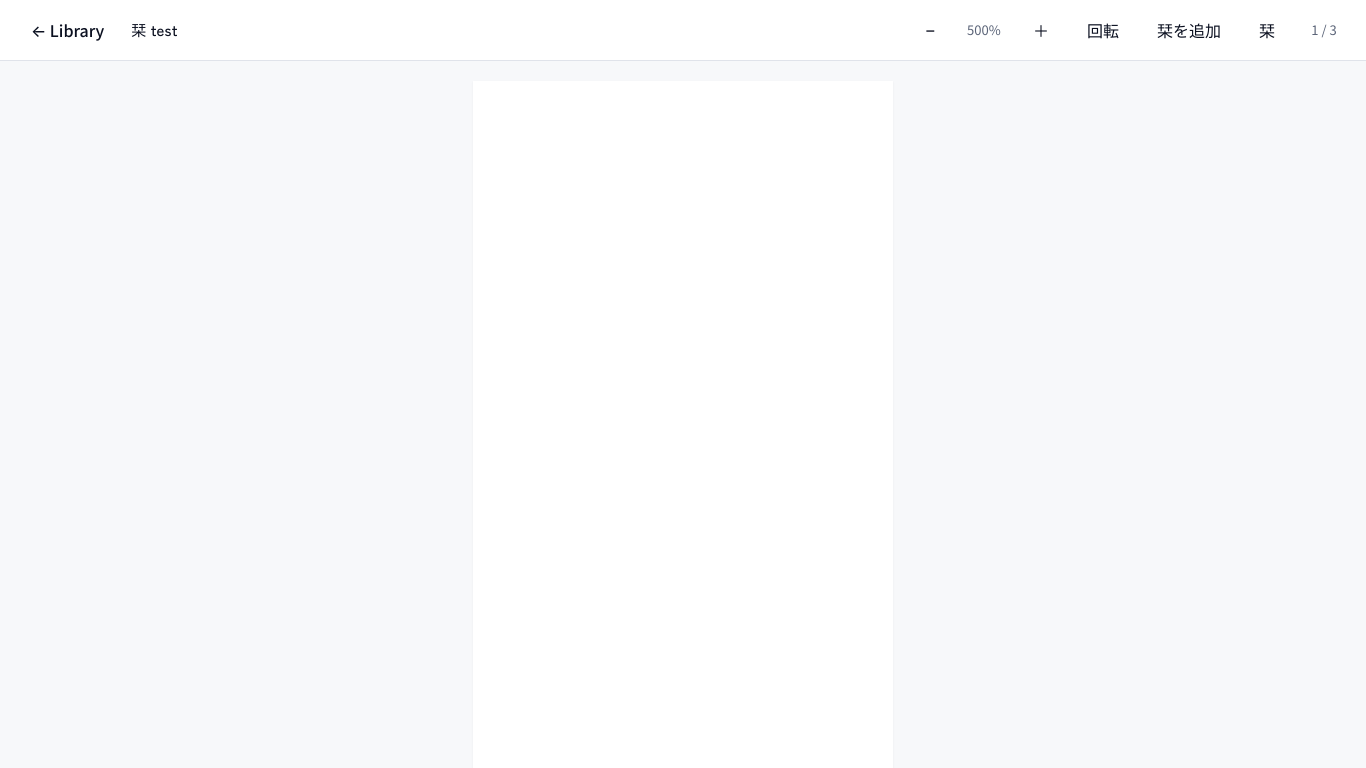
Test: the bookmarks panel › lists marks in the order they were made, numbered per page
Click the button with test id "rm-toggle-bookmarks" at (1267, 30), box [1244,10,1290,50]
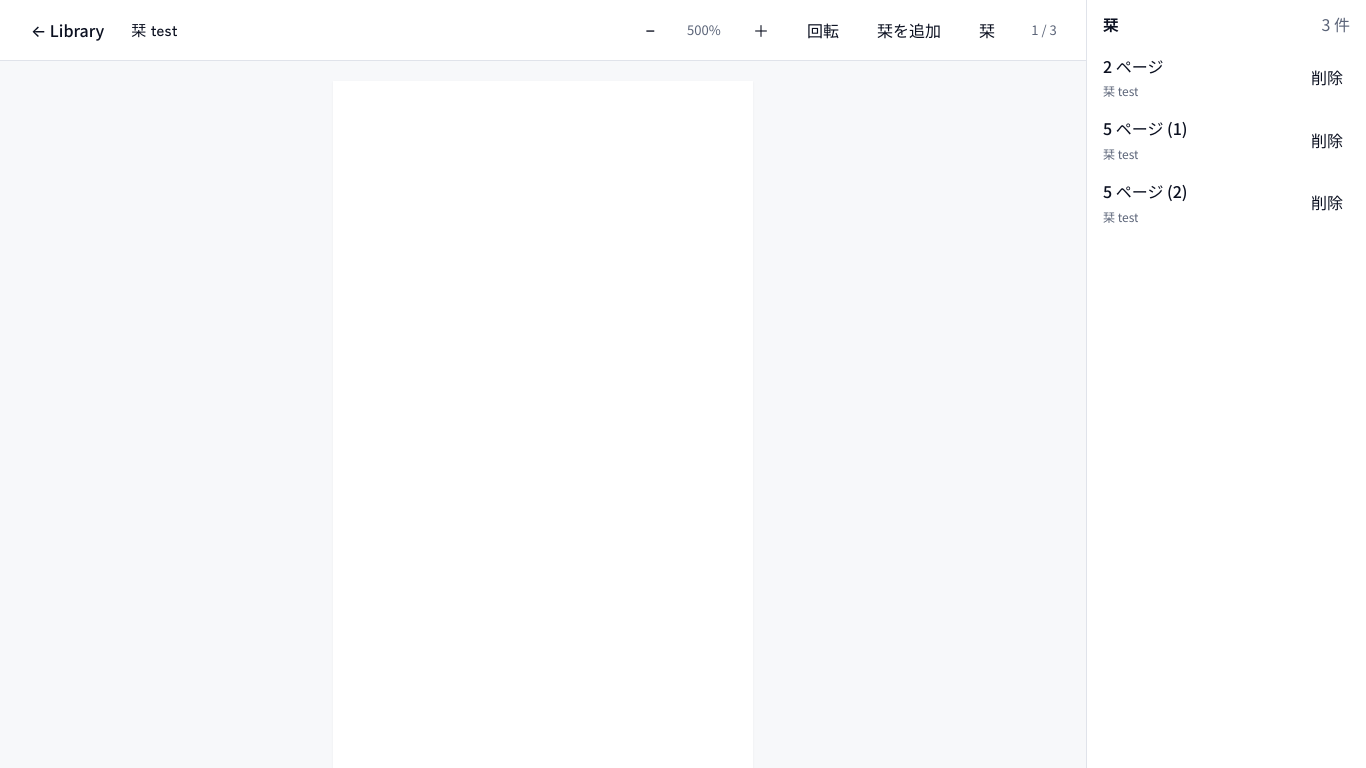
expect the list with test id "rm-bookmarks-list" shows "2 ページ": met, box [1095,46,1292,108]
expect the list with test id "rm-bookmarks-list" shows "5 ページ (1)": met, box [1095,108,1292,171]
expect the list with test id "rm-bookmarks-list" shows "5 ページ (2)": met, box [1095,171,1292,234]
